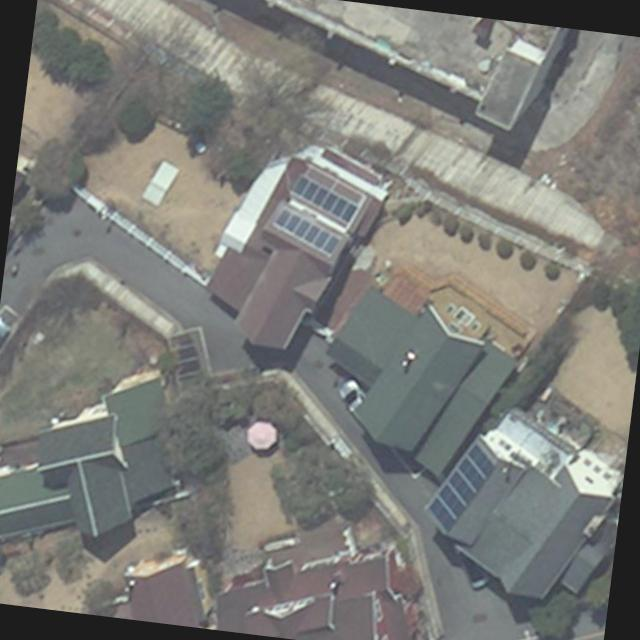solar: (421, 431, 506, 542), (266, 204, 350, 268), (284, 172, 368, 234)
